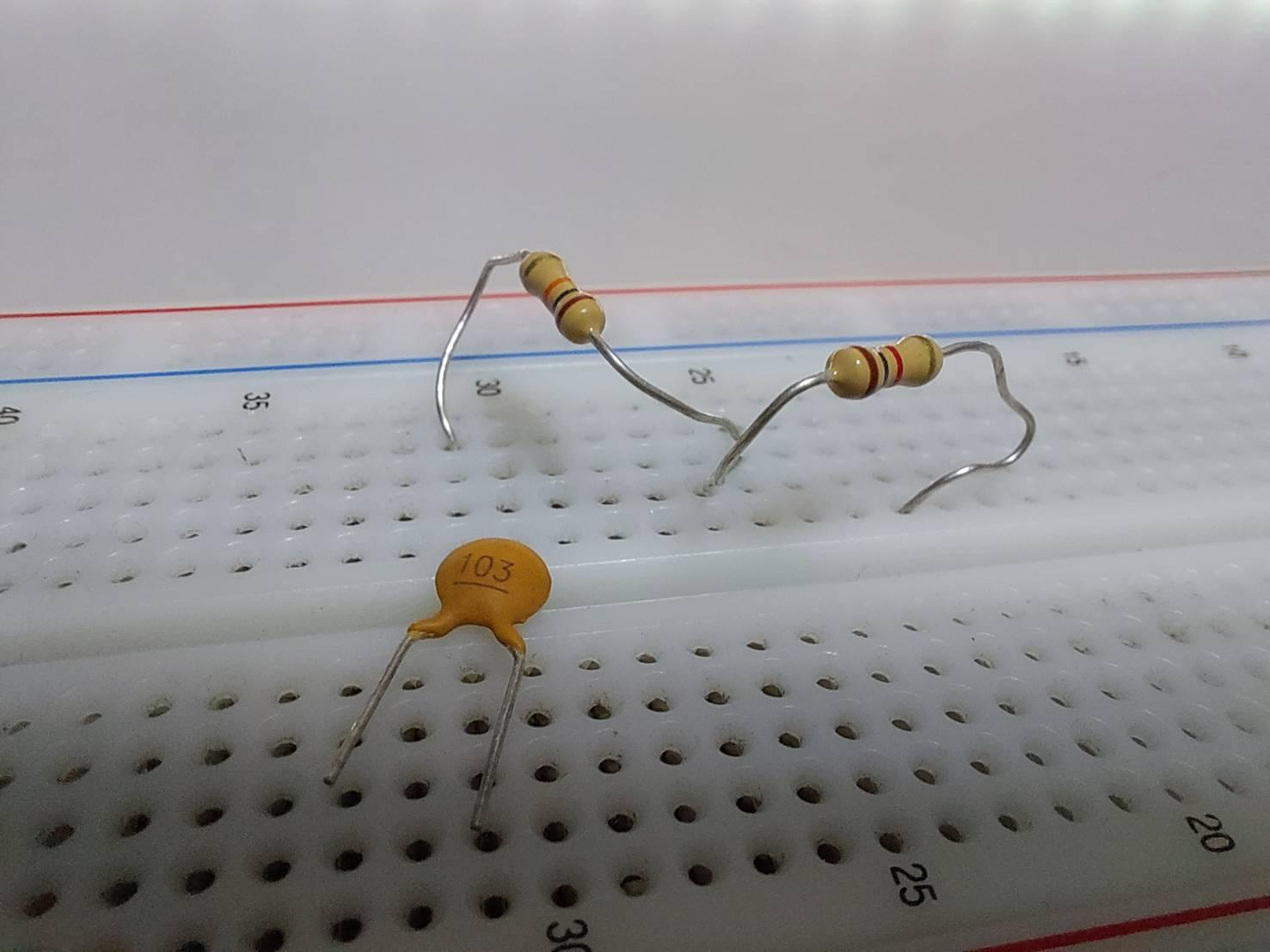resistor: (509, 244, 616, 348), (810, 328, 953, 400)
